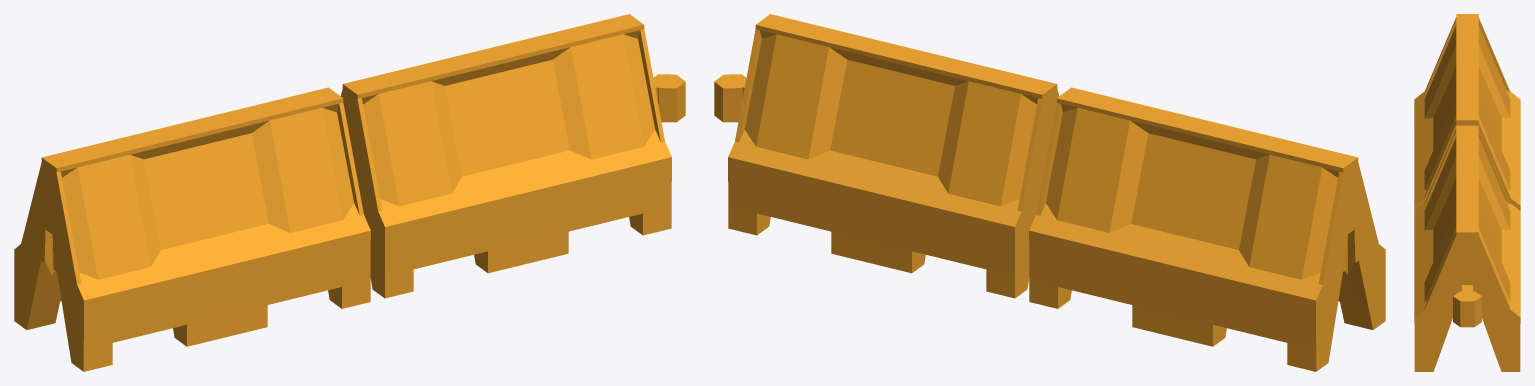
The model's file is SM_Fence_Road_Plastic_Multicolor.fbx.
3 renders of one model, left to right at view 1: azimuth 30°, elevation 25°; view 2: azimuth 150°, elevation 25°; view 3: azimuth 270°, elevation 25°, orthographic. The views are drawn at different scales.
Visible parts, largest first — view 1: SM_Fence_Road_Plastic_Multicolor; view 2: SM_Fence_Road_Plastic_Multicolor; view 3: SM_Fence_Road_Plastic_Multicolor.
Part boxes in pixels (box(x1,y1,x2,y2)): SM_Fence_Road_Plastic_Multicolor: box(14, 14, 685, 371); SM_Fence_Road_Plastic_Multicolor: box(714, 14, 1385, 371); SM_Fence_Road_Plastic_Multicolor: box(1414, 14, 1520, 371).
Size of the model in its own units: 2.1 by 0.5841 by 0.4019.
